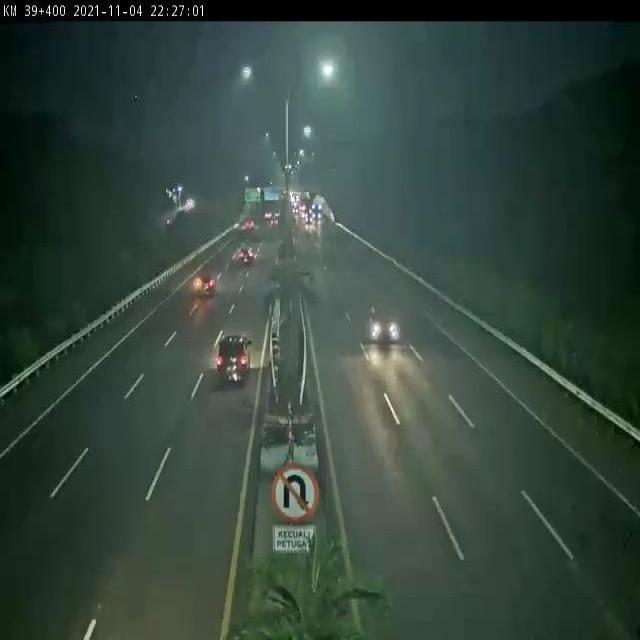car: (216, 335, 253, 383), (368, 303, 401, 341), (192, 268, 217, 300)
